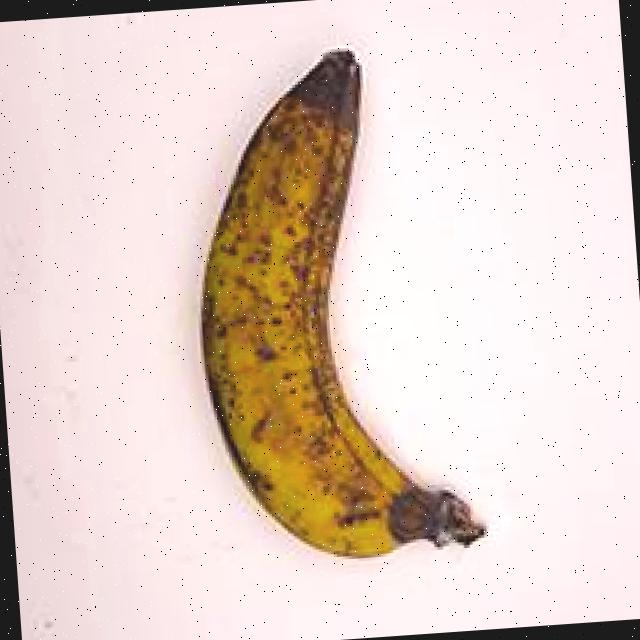Overripe: (152, 8, 531, 605)
